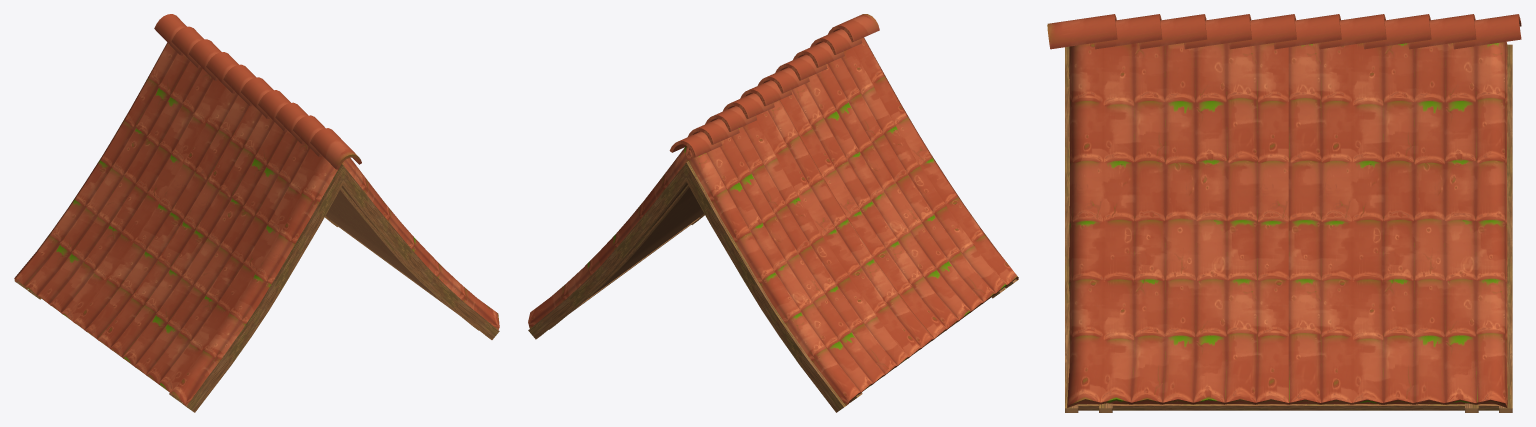
Rendered from Roof_RoundTiles_6x6.glb.
3 views of the same model, side by side, from view 1: azimuth 30°, elevation 25°; view 2: azimuth 150°, elevation 25°; view 3: azimuth 270°, elevation 25° (orthographic). The views are drawn at different scales.
Parts seen in each view (by area): view 1: Roof_RoundTiles_6x6; view 2: Roof_RoundTiles_6x6; view 3: Roof_RoundTiles_6x6.
Boxes of the visible parts, x1,y1,x2,y2 form: Roof_RoundTiles_6x6: [14, 14, 499, 412]; Roof_RoundTiles_6x6: [528, 14, 1018, 412]; Roof_RoundTiles_6x6: [1047, 14, 1521, 412].
Bounding box in the file's own units: 8.25 × 5.67 × 8.03.
Materials: 2 (2 with a texture image).
